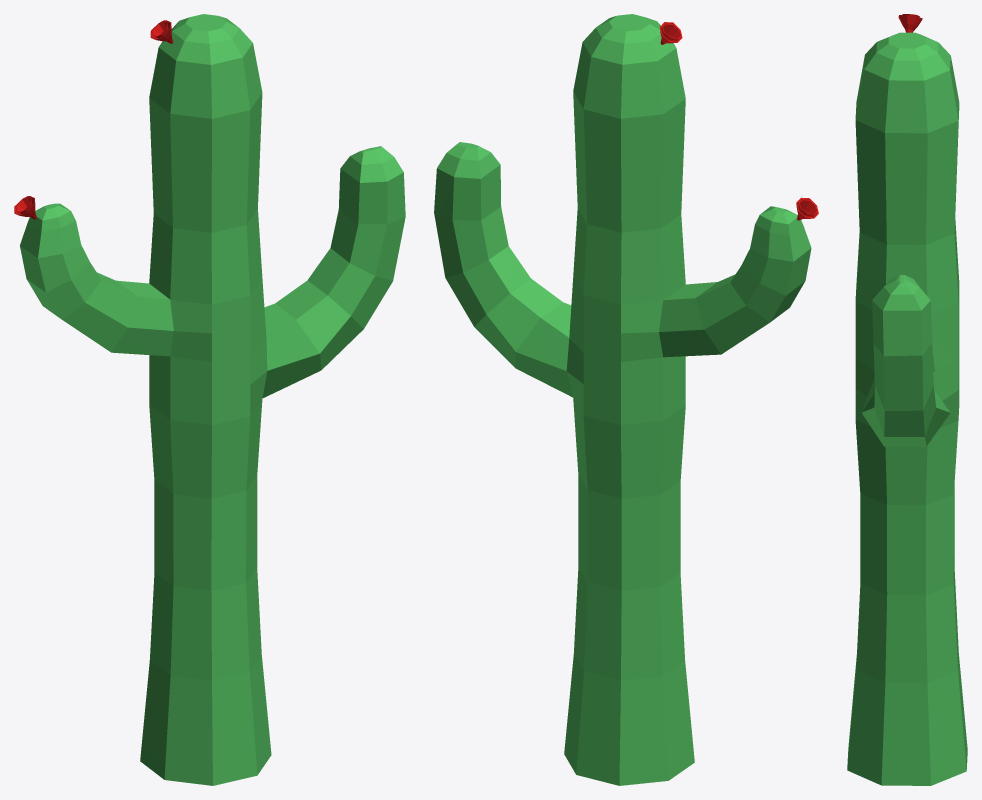
File: Cactus_01_vf.FBX
3 renders of one model, left to right at view 1: azimuth 30°, elevation 25°; view 2: azimuth 150°, elevation 25°; view 3: azimuth 270°, elevation 25°, orthographic. The views are drawn at different scales.
Visible parts, largest first — view 1: Cylinder001; view 2: Cylinder001; view 3: Cylinder001.
Boxes of the visible parts, <box> form: Cylinder001: <box>14,14,405,785</box>; Cylinder001: <box>434,14,818,785</box>; Cylinder001: <box>847,14,967,785</box>.
Bounding box in the file's own units: 140 × 266 × 39.87.
Materials: 1 (1 with a texture image).
